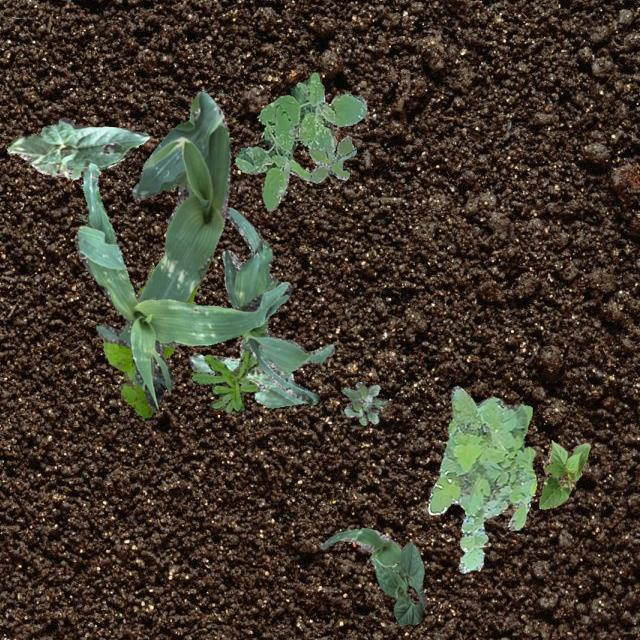crop: (74, 162, 292, 406), (96, 90, 230, 386), (220, 206, 334, 404), (5, 116, 148, 178), (320, 526, 426, 608), (188, 338, 306, 408), (371, 540, 424, 624), (538, 439, 590, 508)
weed: (428, 384, 536, 572), (235, 72, 366, 210), (102, 266, 197, 416), (190, 349, 258, 412), (308, 136, 356, 182), (341, 380, 386, 424)
